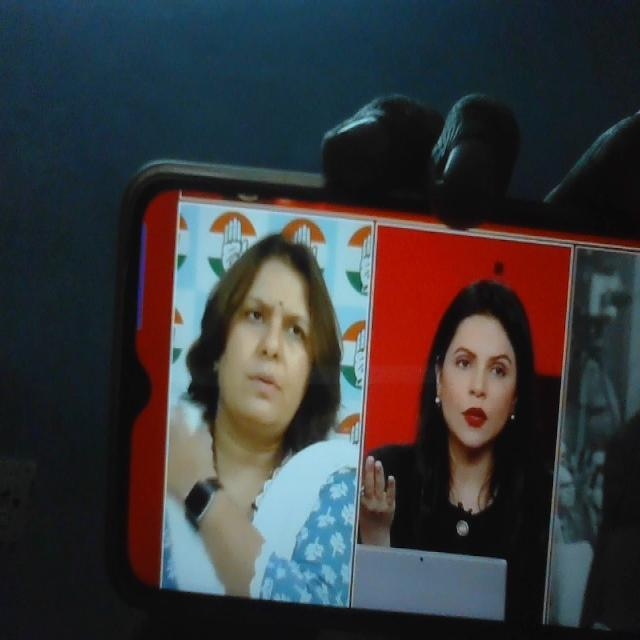fake: (209, 217, 329, 444), (428, 249, 543, 467)
